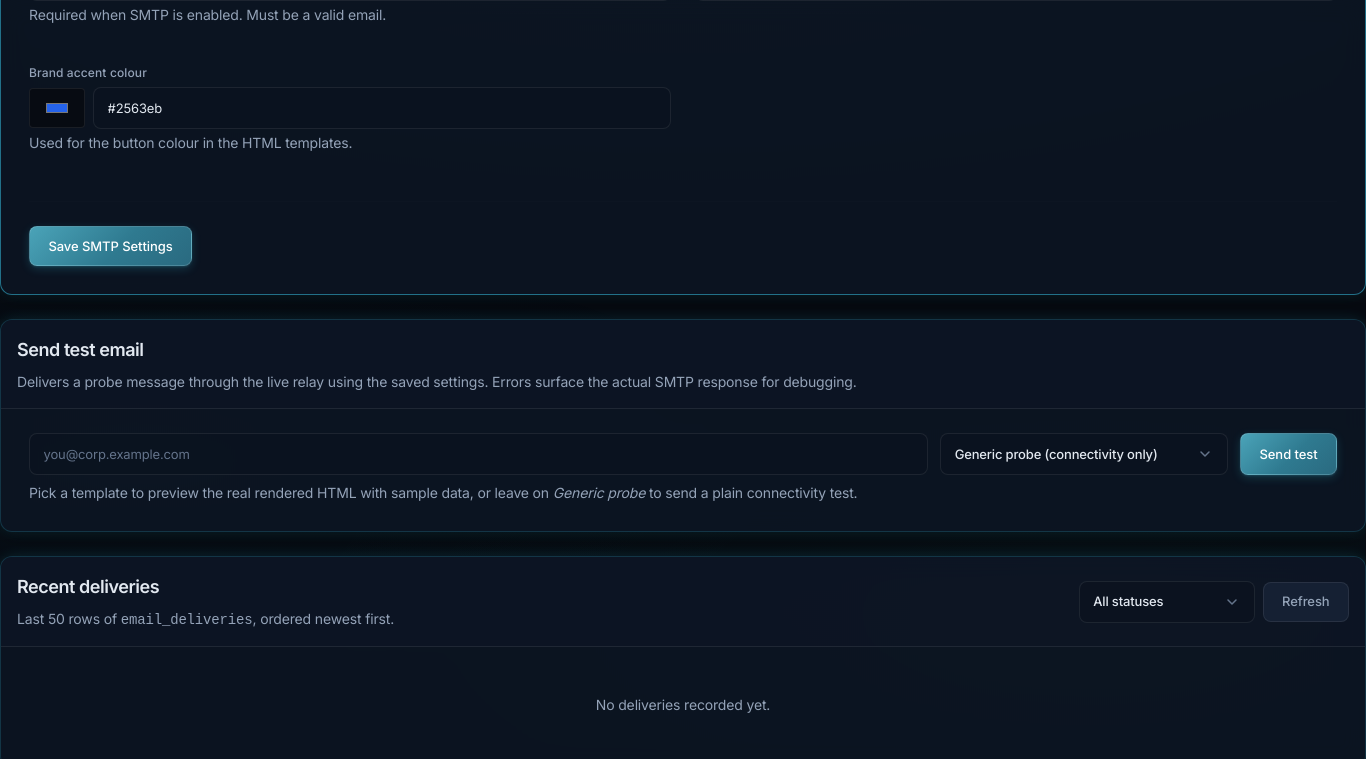
Test: NotificationsTab › forwards the selected template key when running a template-specific test send
(page scrolled)
Type "probe@corp.local" into the field with placeholder "you@corp.example.com" at (479, 454), box x1=29 y1=433 x2=928 y2=475
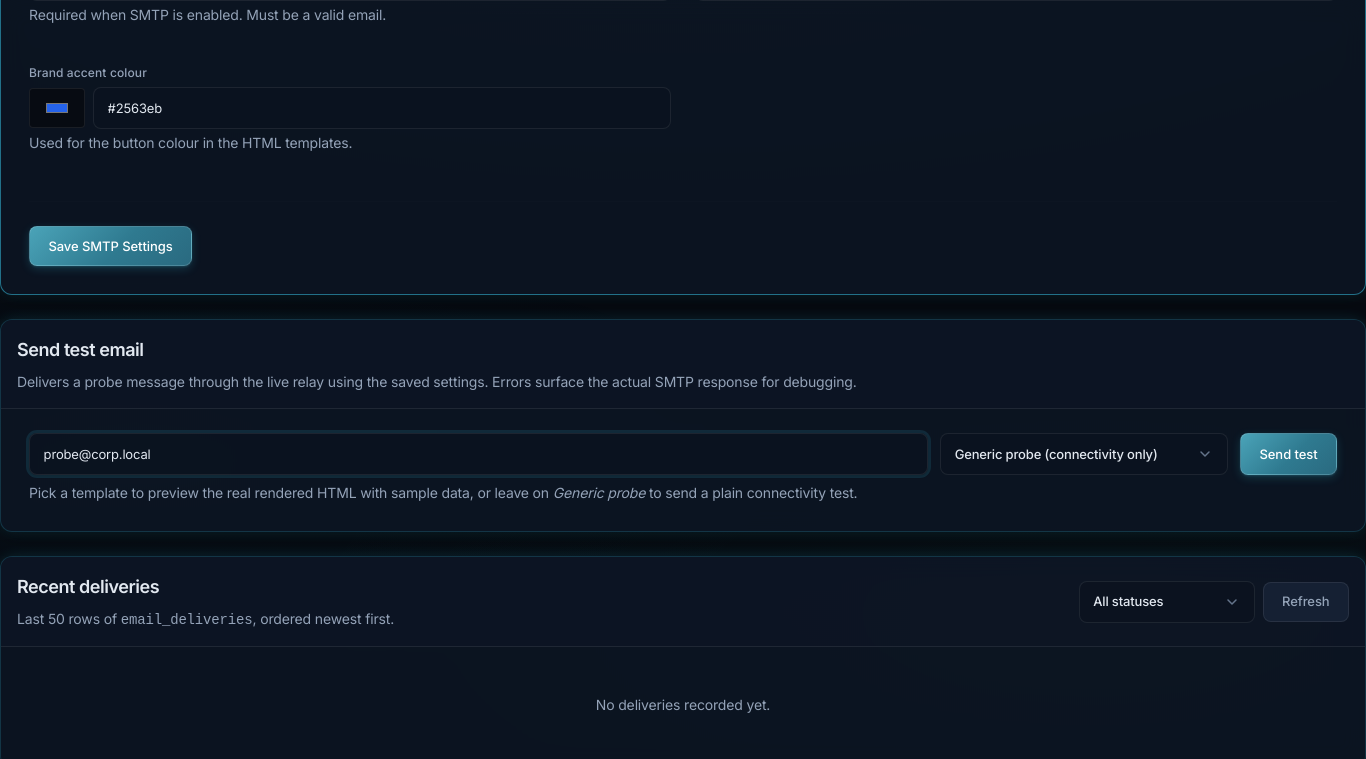
Open the template picker and choose "Checkout approved"
Click the button "Generic probe (connectivity only)" at (1084, 454), box x1=940 y1=433 x2=1228 y2=475
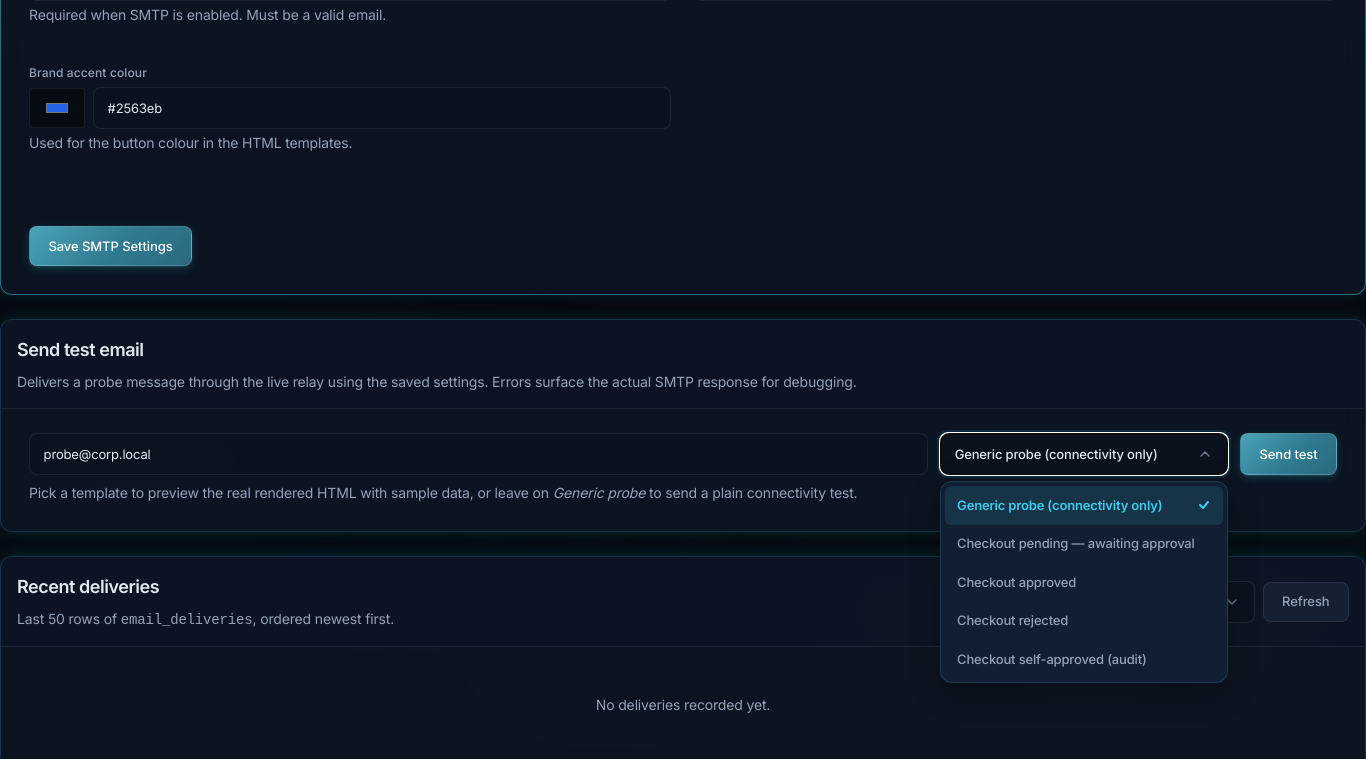
Click the option "Checkout approved" at (1017, 582), box x1=957 y1=574 x2=1076 y2=590
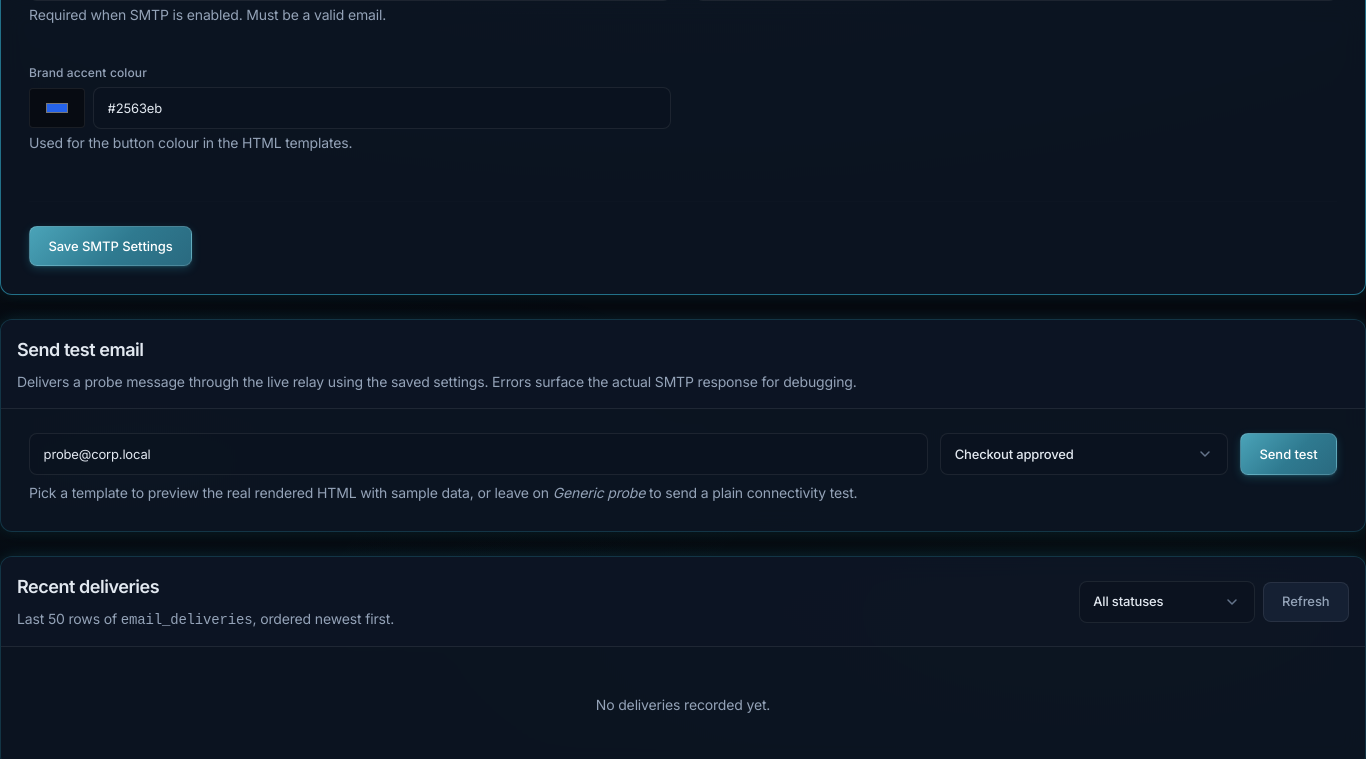
Click the button "Send test" at (1289, 454), box x1=1240 y1=433 x2=1337 y2=475
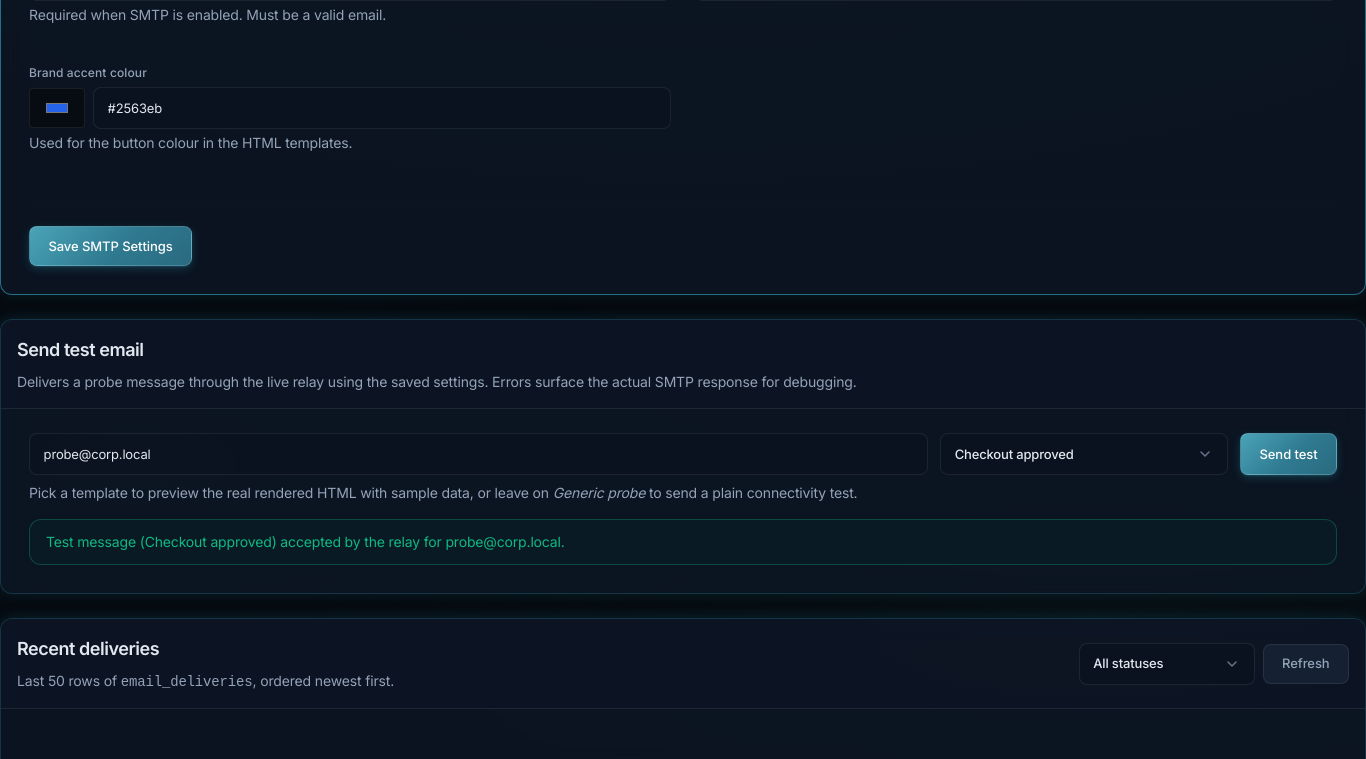
Expected: the text "Test message (Checkout approved) accepted by the relay" is shown, x1=46 y1=533 x2=565 y2=550
